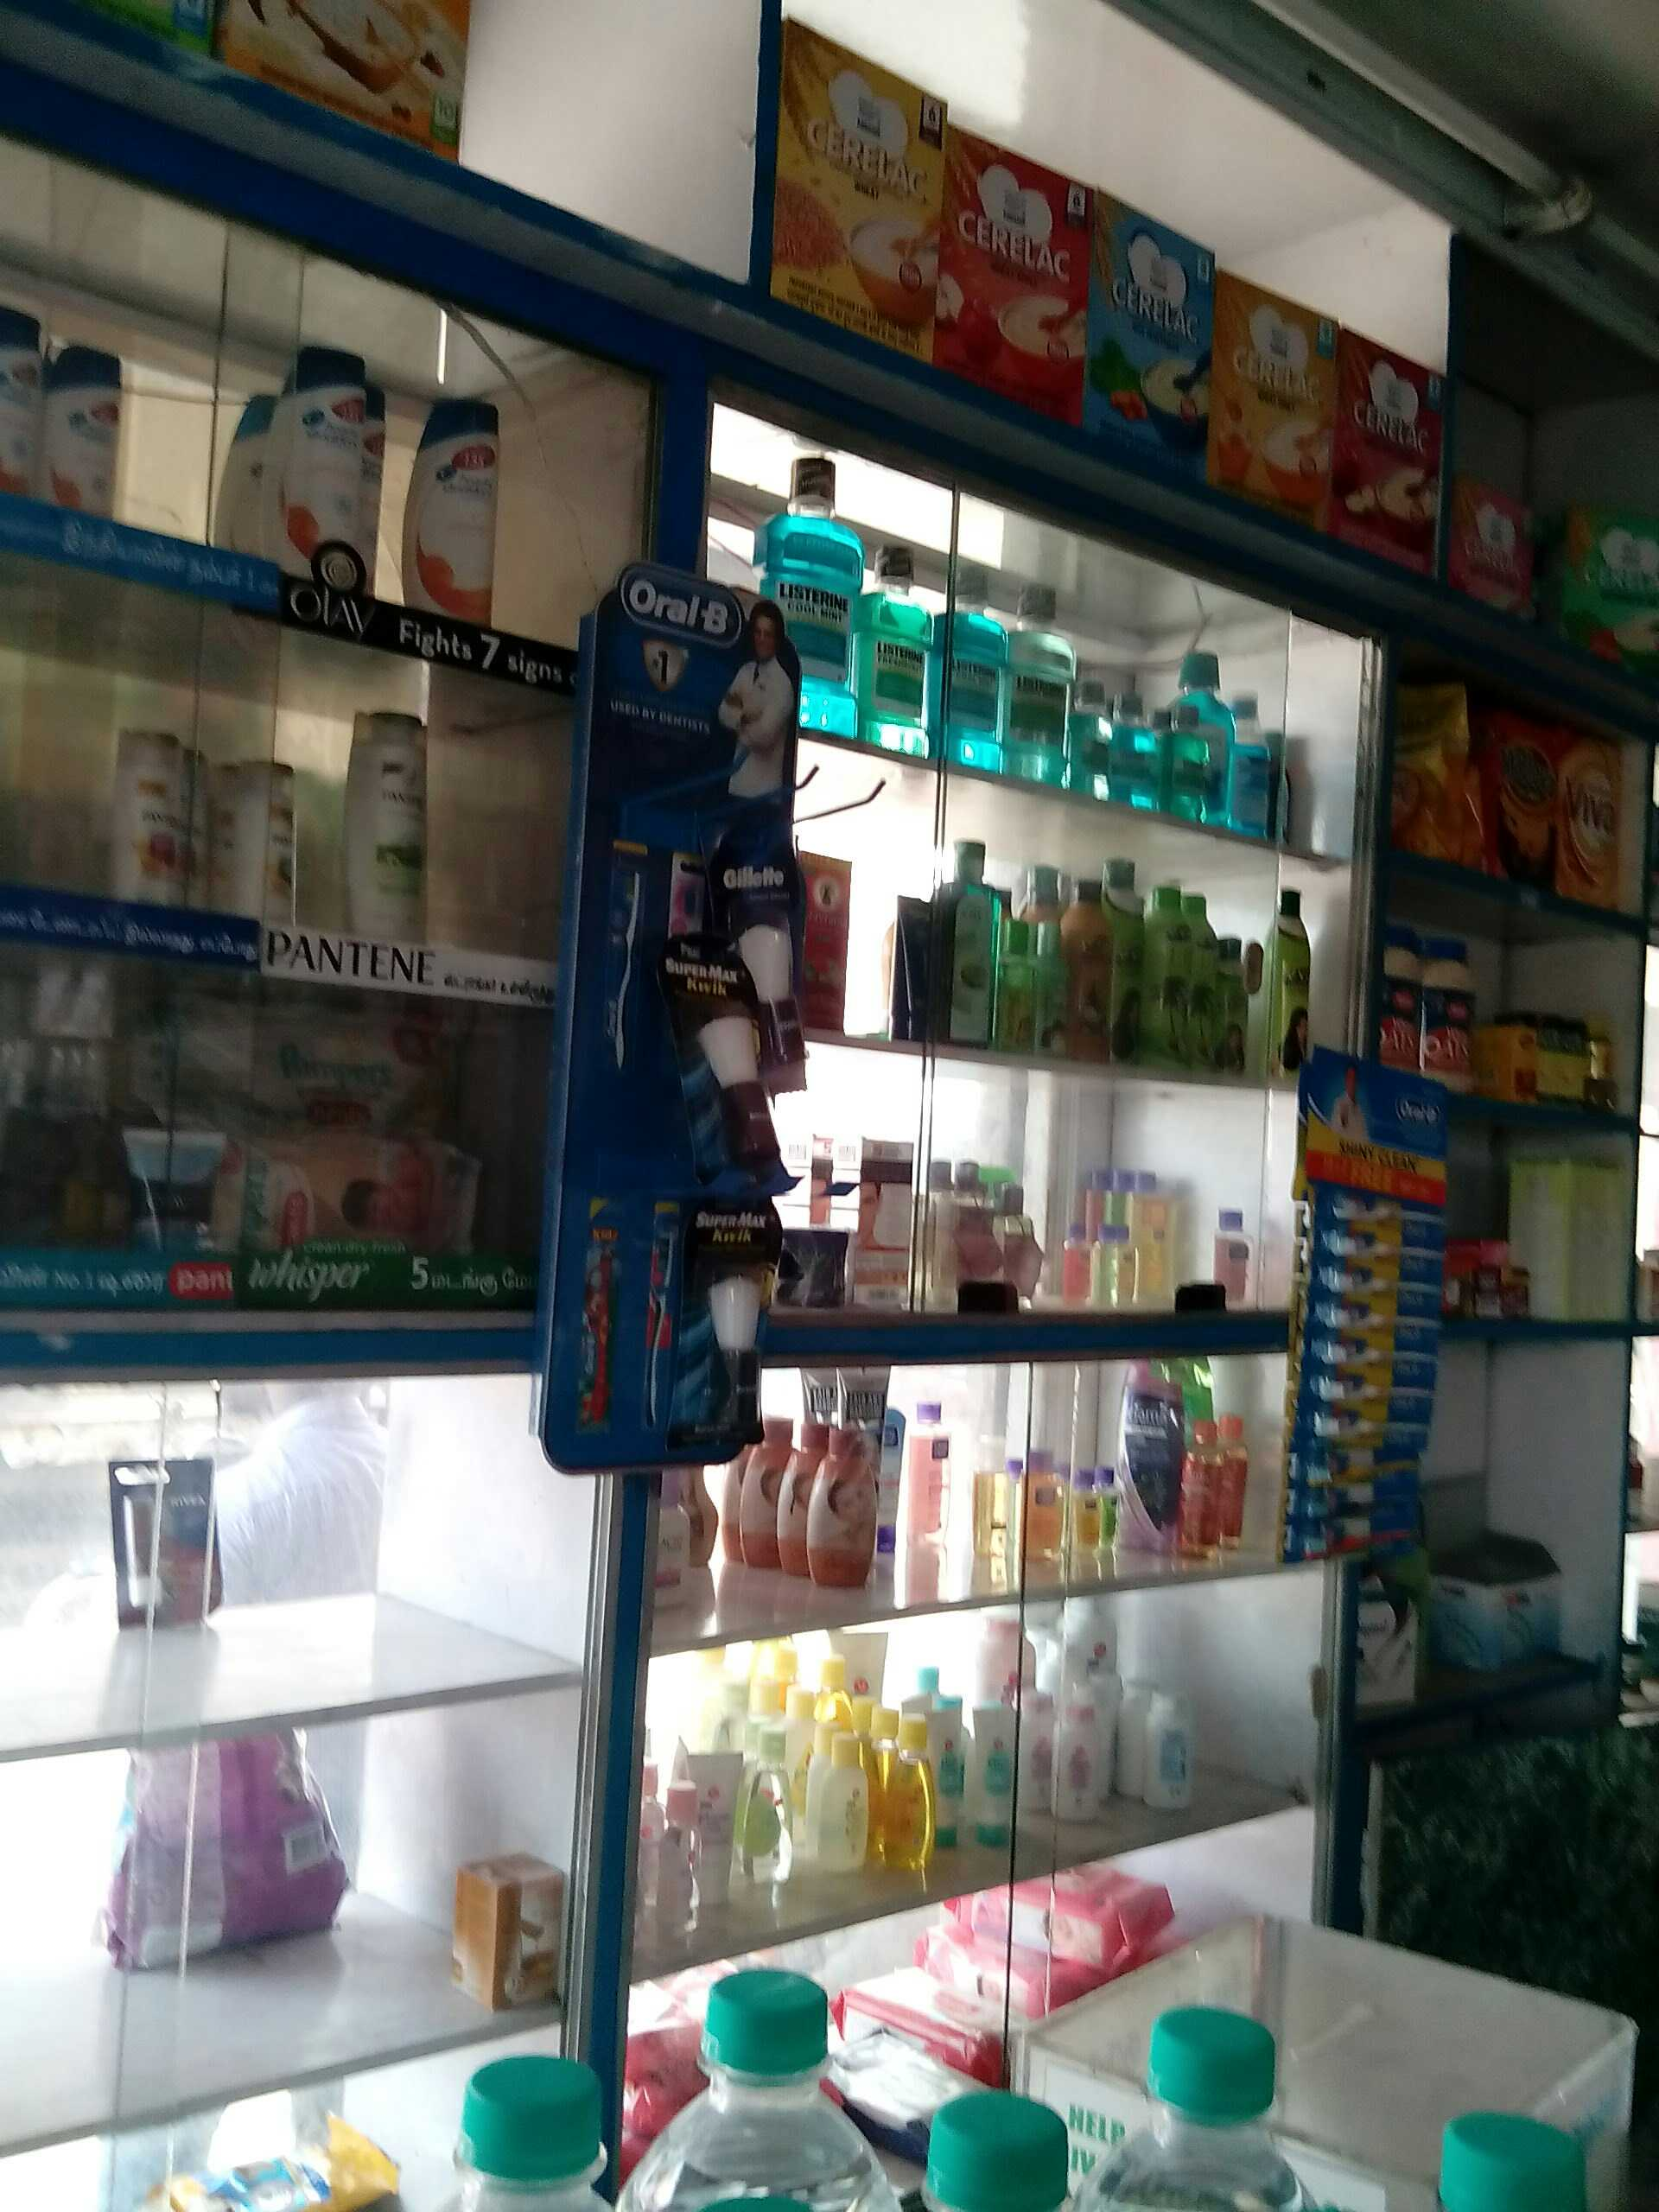beauty: (641, 812, 809, 1151), (636, 1198, 805, 1430), (258, 331, 387, 606), (315, 719, 453, 956), (63, 742, 249, 916), (376, 392, 509, 629)
